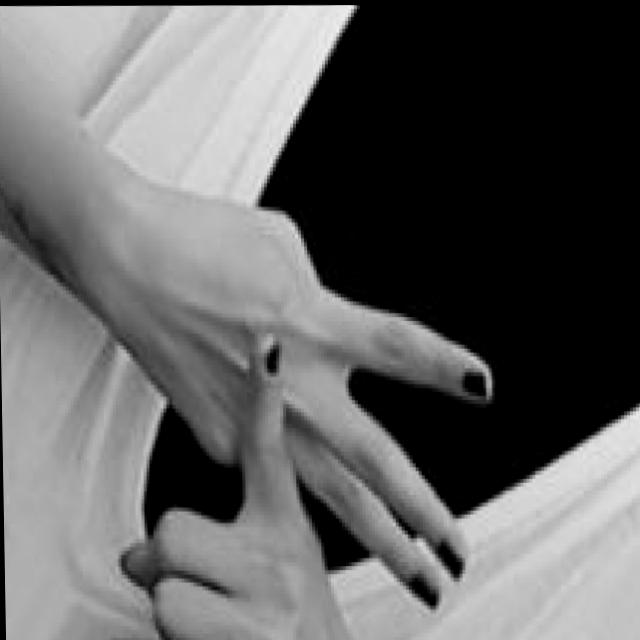E: (114, 153, 496, 640)
